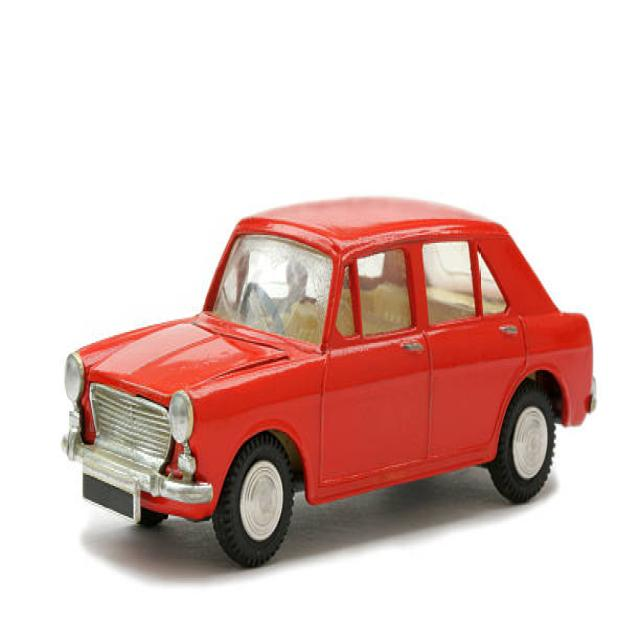Car: (61, 194, 597, 568)
